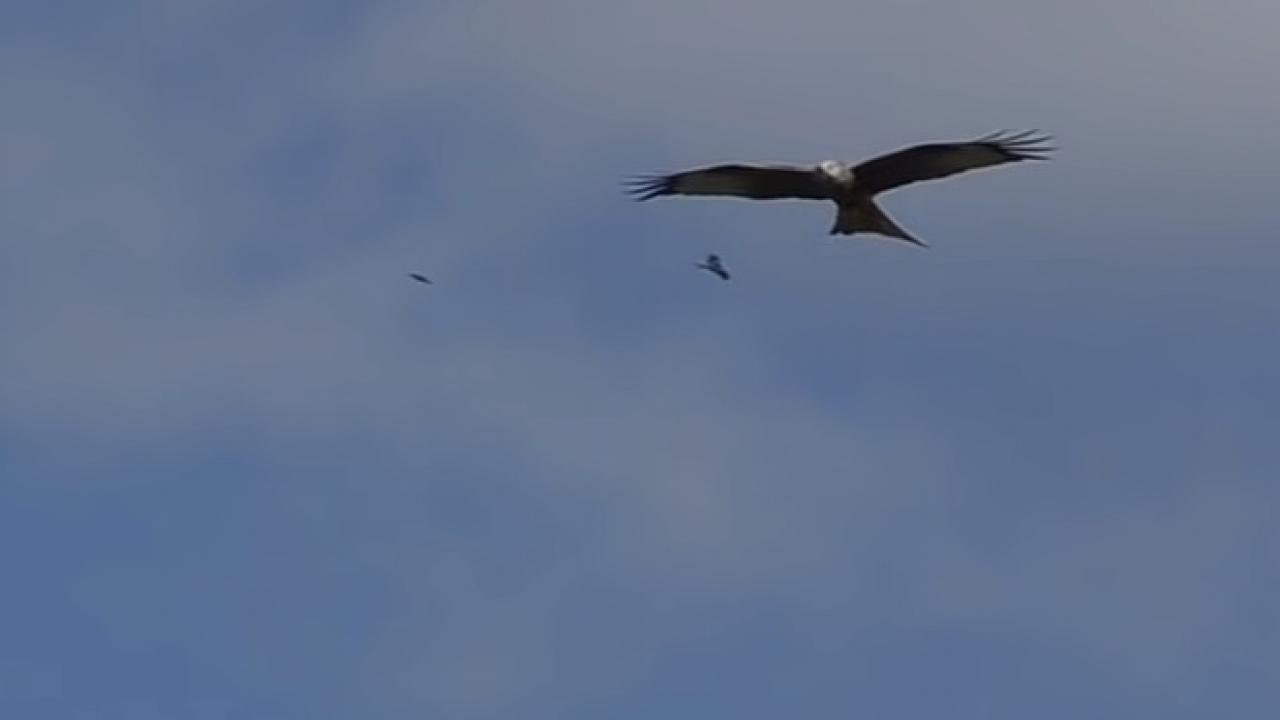Bird: (624, 116, 1074, 261)
